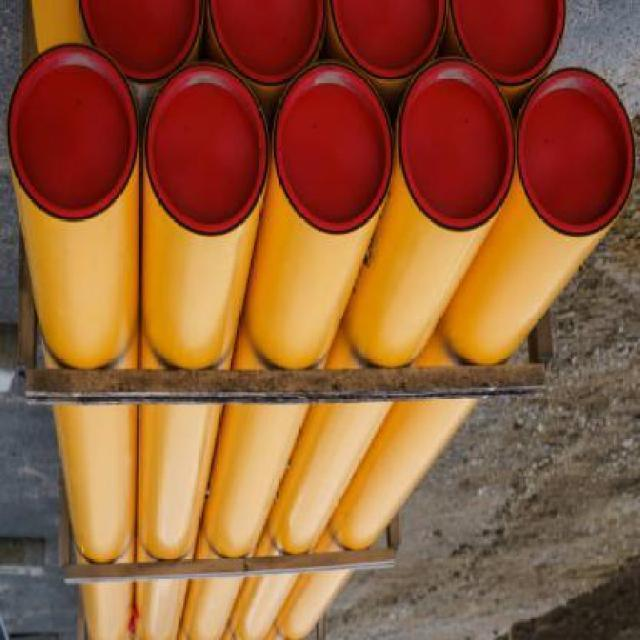pipe: (6, 45, 137, 222), (147, 62, 271, 239), (397, 55, 515, 234), (273, 60, 393, 236), (517, 66, 637, 237), (79, 2, 204, 88), (206, 2, 326, 90), (448, 2, 566, 90), (328, 2, 448, 84)
